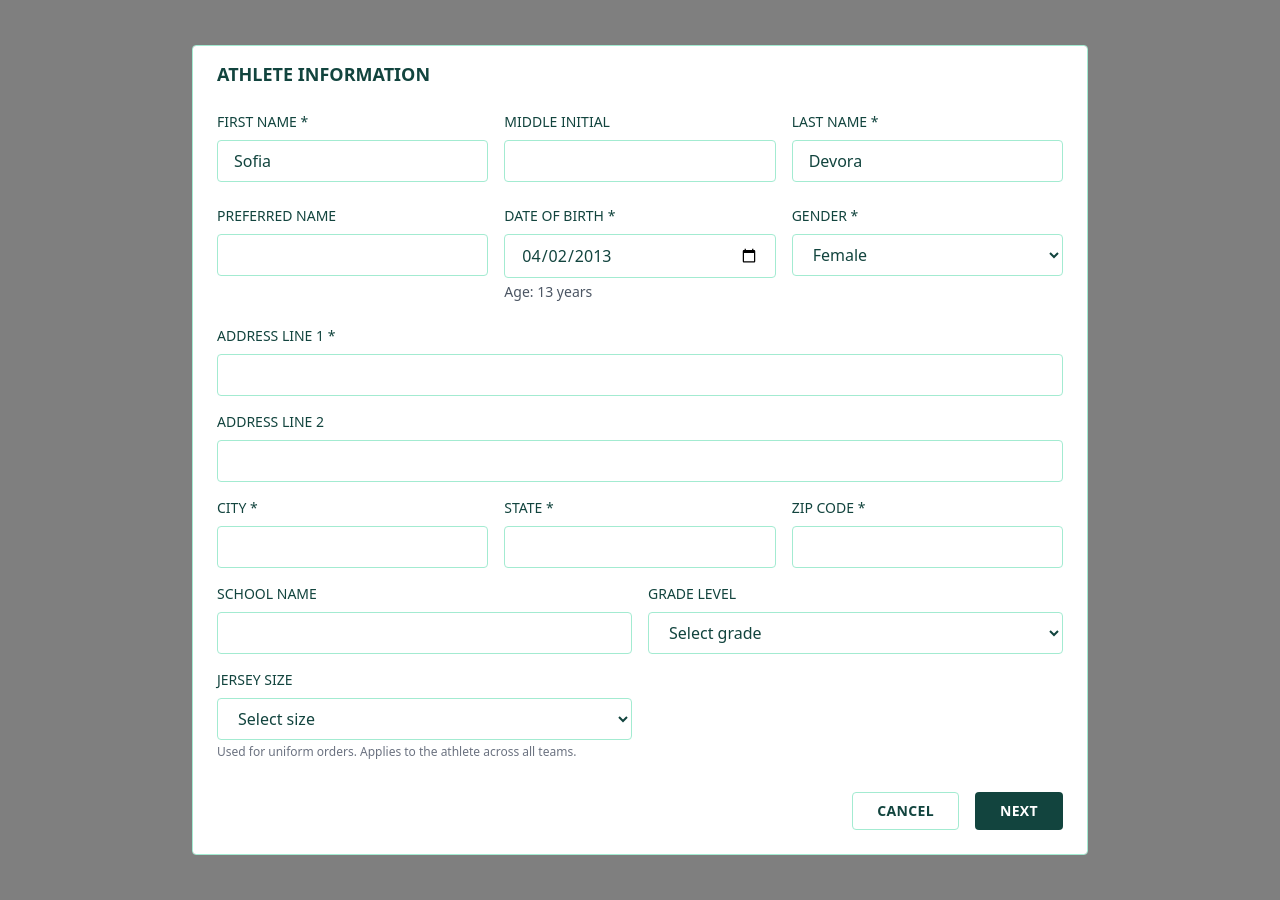
Test: AthleteForm crew members are equal › numbers the cards and offers no way to rank one crew member above another
(page scrolled)
Click the button "Next" at (1019, 811), box [975,792,1063,830]
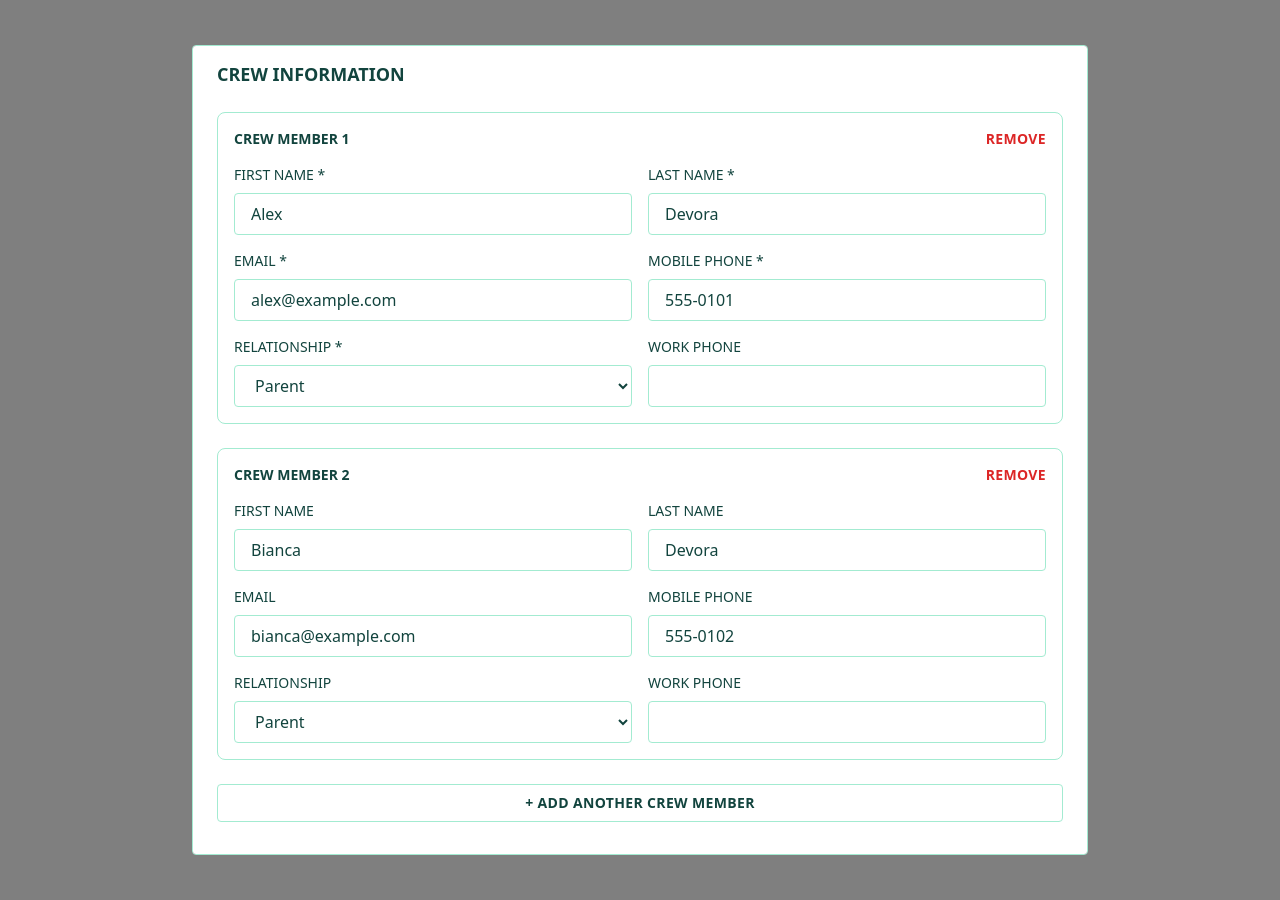
Expected: the text "Crew Member 1" is shown, [234,129,350,149]
Expected: the text "Crew Member 2" is shown, [234,465,350,485]
